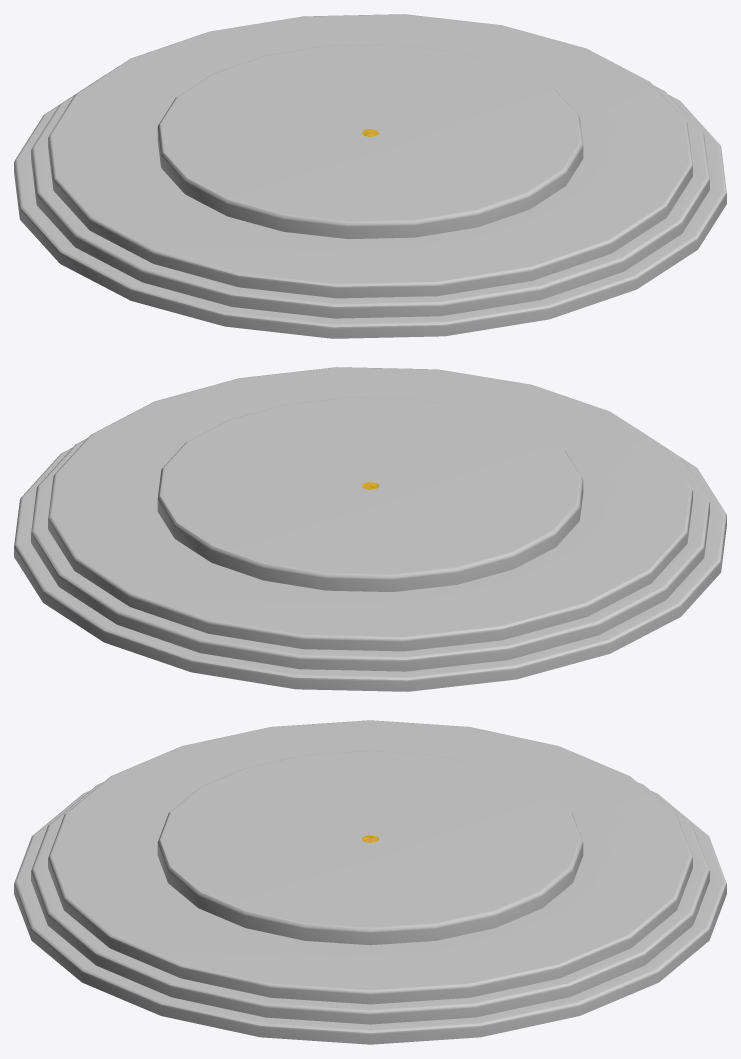
The model's file is platform.fbx.
3 views of the same model, one above another, from view 1: azimuth 30°, elevation 25°; view 2: azimuth 150°, elevation 25°; view 3: azimuth 270°, elevation 25° (orthographic).
Parts seen in each view (by area): view 1: holder; view 2: holder; view 3: holder.
Boxes of the visible parts, x1=… form: holder: x1=14, y1=14, x2=726, y2=338; holder: x1=14, y1=367, x2=726, y2=691; holder: x1=14, y1=720, x2=726, y2=1044.
Size of the model in its own units: 10 by 0.8502 by 10.
